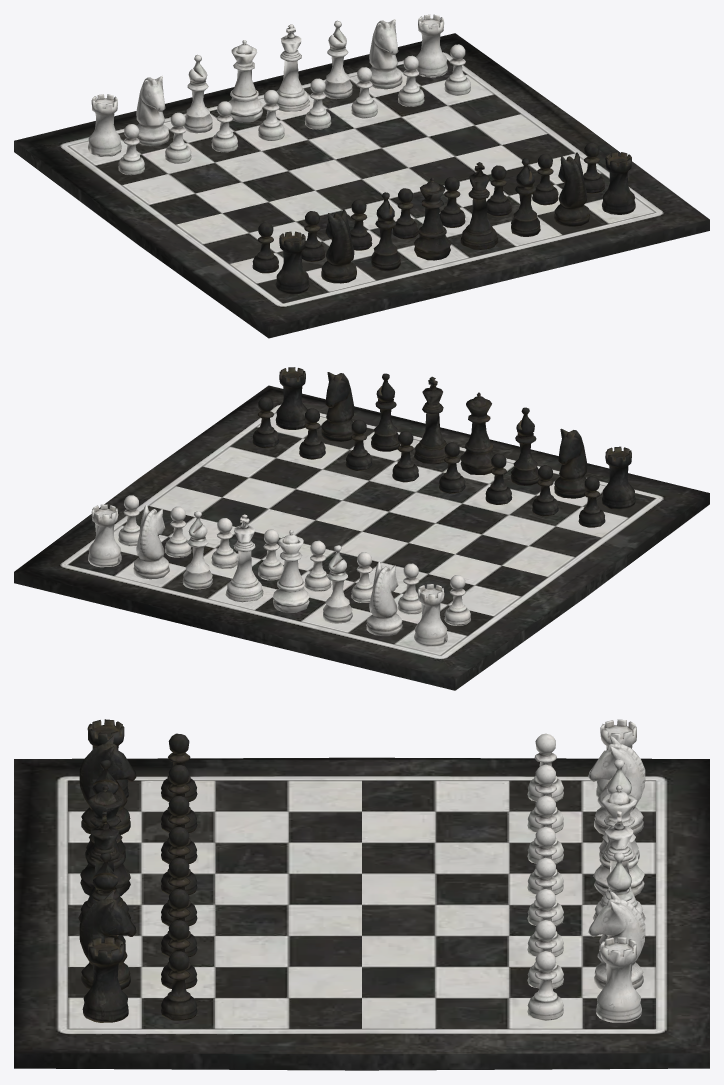
Rendered from chess_set.glb.
3 renders of one model, top to bottom at view 1: azimuth 30°, elevation 25°; view 2: azimuth 150°, elevation 25°; view 3: azimuth 270°, elevation 25°, orthographic. The views are drawn at different scales.
Visible parts, largest first — view 1: board, piece_queen_black, piece_knight_black_02, piece_knight_black_01, piece_queen_white, piece_knight_white_02, piece_knight_white_01, piece_king_black, piece_king_white, piece_rook_black_01, piece_rook_black_02, piece_rook_white_02 (+21 smaller); view 2: board, piece_queen_white, piece_knight_white_02, piece_knight_white_01, piece_queen_black, piece_knight_black_01, piece_knight_black_02, piece_king_white, piece_king_black, piece_rook_black_01, piece_rook_white_02, piece_rook_white_01 (+21 smaller); view 3: board, piece_rook_black_02, piece_rook_white_01, piece_knight_white_01, piece_knight_black_02, piece_knight_black_01, piece_knight_white_02, piece_queen_white, piece_queen_black, piece_pawn_black_08, piece_pawn_white_01, piece_king_black (+21 smaller).
Boxes of the visible parts, left/top/right/bottom form: board: left=14, top=33, right=709, bottom=338; piece_queen_black: left=414, top=177, right=451, bottom=260; piece_knight_black_02: left=554, top=152, right=589, bottom=226; piece_knight_black_01: left=321, top=209, right=356, bottom=283; piece_queen_white: left=228, top=40, right=262, bottom=122; piece_knight_white_02: left=136, top=76, right=169, bottom=146; piece_knight_white_01: left=369, top=19, right=402, bottom=89; piece_king_black: left=460, top=162, right=498, bottom=249; piece_king_white: left=276, top=24, right=309, bottom=111; piece_rook_black_01: left=275, top=231, right=309, bottom=294; piece_rook_black_02: left=602, top=152, right=635, bottom=214; piece_rook_white_02: left=88, top=94, right=121, bottom=156; board: left=14, top=385, right=709, bottom=690; piece_queen_white: left=273, top=530, right=309, bottom=612; piece_knight_white_02: left=366, top=561, right=402, bottom=635; piece_knight_white_01: left=133, top=505, right=169, bottom=579; piece_queen_black: left=460, top=392, right=495, bottom=474; piece_knight_black_01: left=554, top=428, right=587, bottom=498; piece_knight_black_02: left=321, top=372, right=354, bottom=441; piece_king_white: left=225, top=514, right=263, bottom=602; piece_king_black: left=414, top=376, right=447, bottom=463; piece_rook_black_01: left=602, top=446, right=635, bottom=509; piece_rook_white_02: left=414, top=584, right=447, bottom=646; piece_rook_white_01: left=88, top=504, right=121, bottom=567; board: left=14, top=757, right=709, bottom=1070; piece_rook_black_02: left=82, top=937, right=128, bottom=1022; piece_rook_white_01: left=596, top=937, right=641, bottom=1022; piece_knight_white_01: left=588, top=891, right=645, bottom=989; piece_knight_black_02: left=79, top=891, right=136, bottom=989; piece_knight_black_01: left=79, top=735, right=136, bottom=834; piece_knight_white_02: left=588, top=736, right=645, bottom=834; piece_queen_white: left=593, top=785, right=644, bottom=895; piece_queen_black: left=80, top=785, right=130, bottom=896; piece_pawn_black_08: left=161, top=951, right=197, bottom=1020; piece_pawn_white_01: left=527, top=951, right=563, bottom=1020; piece_king_black: left=78, top=811, right=130, bottom=922.
Bounding box in the file's own units: 0.5532 × 0.1103 × 0.5482.
3 materials, 3 textured.
